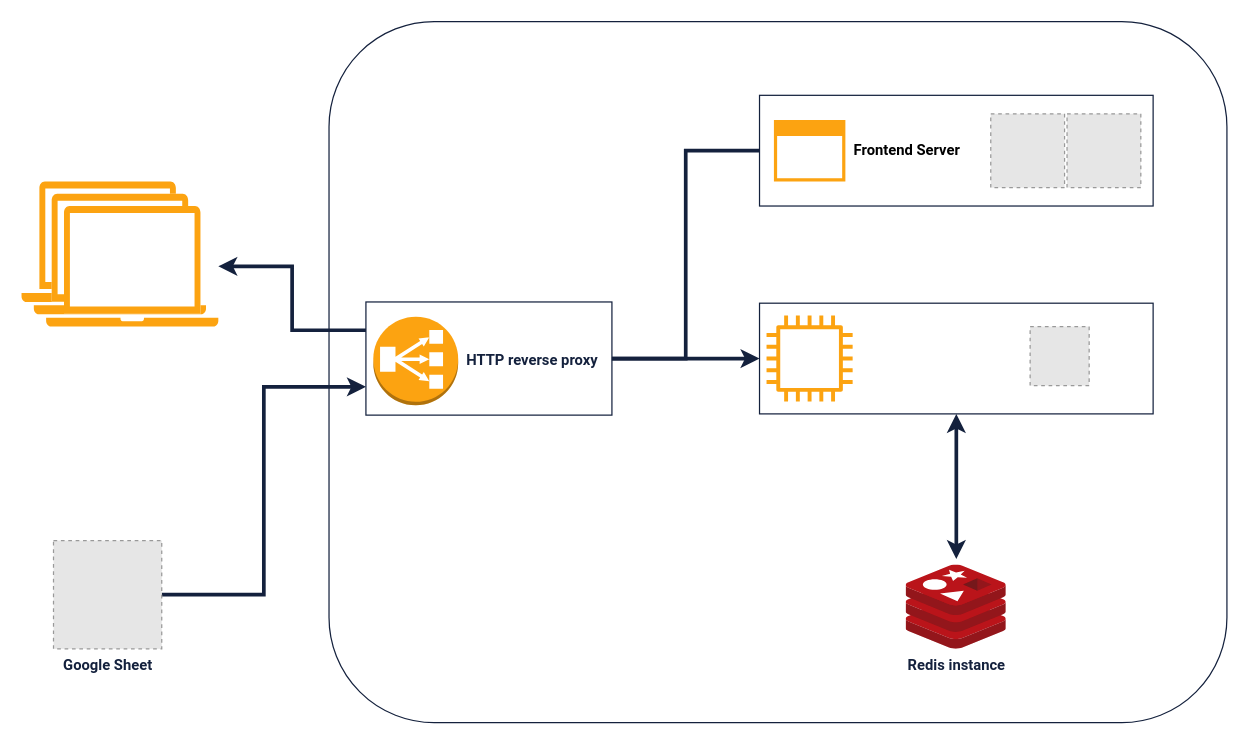
Image size: 1248x744. Some labels were removed from this diagram. Grey dashed boxes stand in for pictures. Here are the shapes that lost their labels. From the top down, the centre of each, then its label:
At (132,265): "Clients".
At (809,358): "Backend Server".
